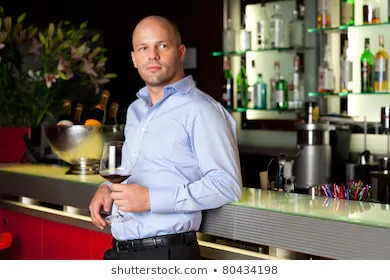F_belt: (108, 231, 200, 246)
F_shirt: (106, 72, 241, 239)
